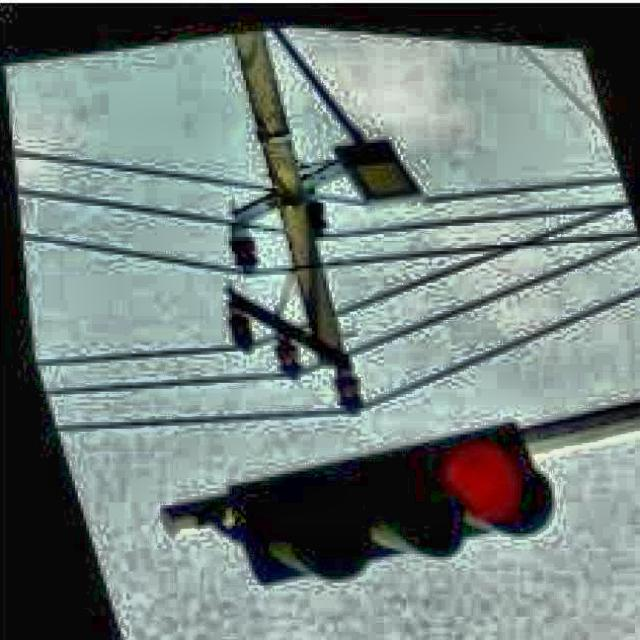red: (234, 443, 560, 561)
